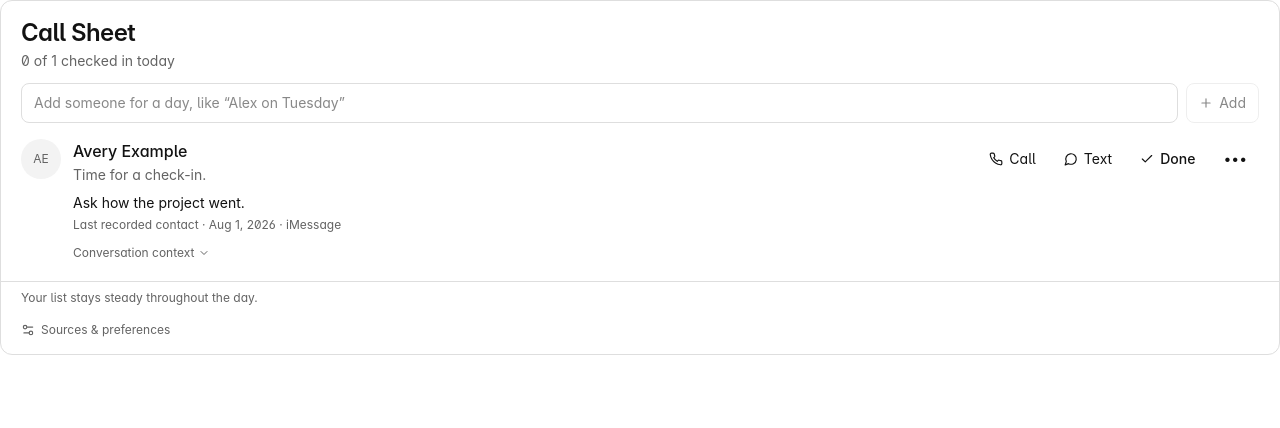
Test: daily call sheet › keeps the current row on failure and allows retry
What coordinates should you click on to do the following:
click the button "Call"
I would click on:
 (1013, 159)
Its box is [977, 139, 1048, 179].
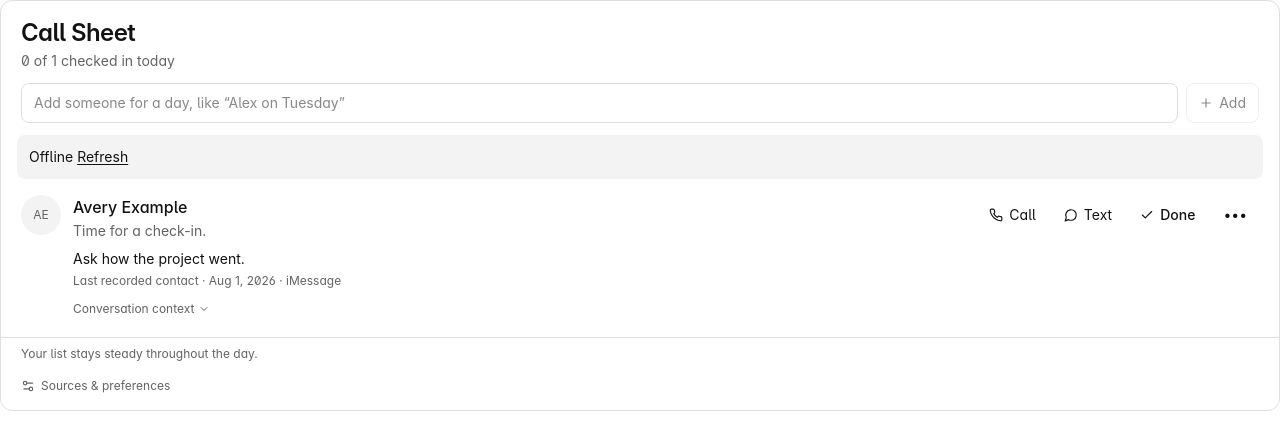
Expected: the button "Call" is enabled, [977, 195, 1048, 235]
Expected: the text "Offline" is shown, [29, 148, 73, 165]
